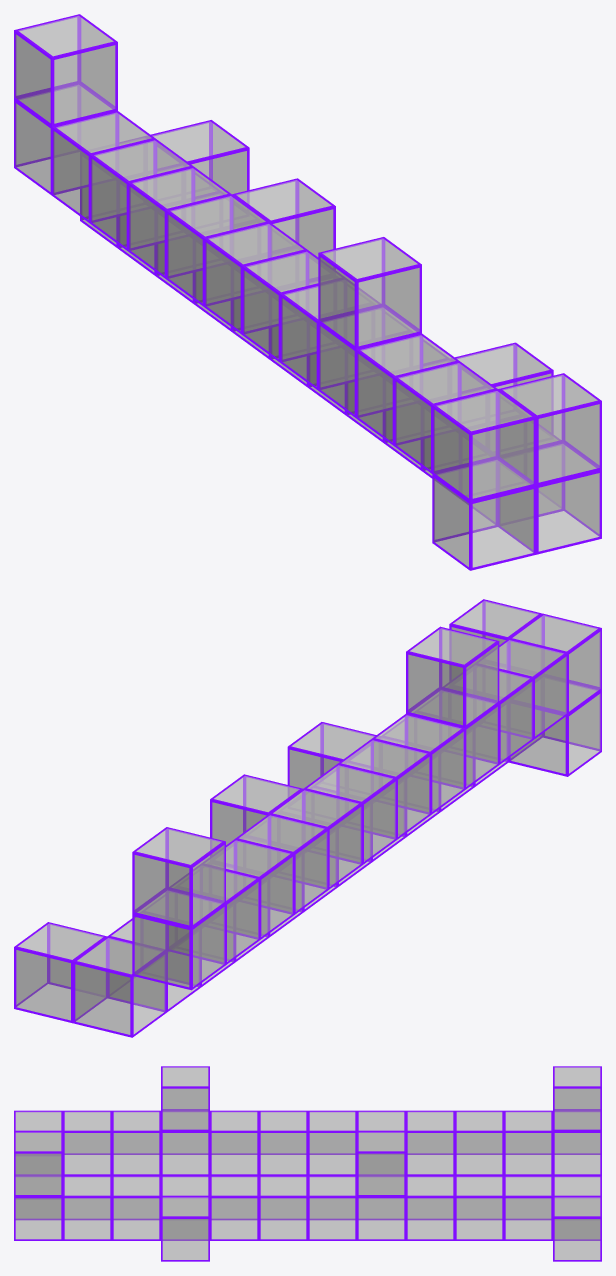
Rendered from (6)E Wall.fbx.
3 views of the same model, one above another, from view 1: azimuth 30°, elevation 25°; view 2: azimuth 150°, elevation 25°; view 3: azimuth 270°, elevation 25° (orthographic). The views are drawn at different scales.
Parts seen in each view (by area): view 1: Wall.022, Wall.051, Wall.039, Wall.021, Wall.030, Wall.037, Wall.028, Wall.026, Wall.024, Wall.044, Wall.023, Wall.040 (+17 smaller); view 2: Wall.039, Wall.051, Wall.046, Wall.047, Wall.050, Wall.035, Wall.037, Wall.040, Wall.033, Wall.028, Wall.024, Wall.031 (+18 smaller); view 3: Wall.024, Wall.026, Wall.030, Wall.031, Wall.033, Wall.035, Wall.039, Wall.040, Wall.042, Wall.044, Wall.048, Wall.049 (+19 smaller).
Part boxes in pixels (x1,y1,x2,y2): Wall.022: (432, 389, 535, 501); Wall.051: (14, 14, 117, 126); Wall.039: (318, 237, 421, 349); Wall.021: (432, 458, 535, 570); Wall.030: (498, 373, 601, 485); Wall.037: (166, 194, 269, 306); Wall.028: (318, 306, 421, 417); Wall.026: (356, 333, 459, 445); Wall.024: (394, 361, 497, 473); Wall.044: (52, 111, 155, 223); Wall.023: (499, 442, 601, 554); Wall.040: (128, 166, 231, 278); Wall.039: (406, 626, 499, 727); Wall.051: (132, 827, 225, 928); Wall.046: (132, 889, 225, 990); Wall.047: (73, 936, 166, 1037); Wall.050: (14, 922, 106, 1023); Wall.035: (303, 763, 396, 864); Wall.037: (269, 789, 362, 889); Wall.040: (235, 814, 328, 914); Wall.033: (338, 739, 430, 839); Wall.028: (406, 688, 499, 789); Wall.024: (475, 638, 567, 739); Wall.031: (371, 713, 465, 814); Wall.024: (63, 1110, 111, 1175); Wall.026: (112, 1110, 160, 1175); Wall.030: (14, 1131, 62, 1196); Wall.031: (210, 1110, 258, 1175); Wall.033: (259, 1110, 307, 1175); Wall.035: (308, 1110, 356, 1175); Wall.039: (161, 1066, 209, 1131); Wall.040: (406, 1110, 454, 1175); Wall.042: (455, 1110, 503, 1175); Wall.044: (504, 1110, 552, 1175); Wall.048: (161, 1196, 209, 1261); Wall.049: (357, 1131, 405, 1196).
Bounding box in the file's own units: 600 × 600 × 2400.
